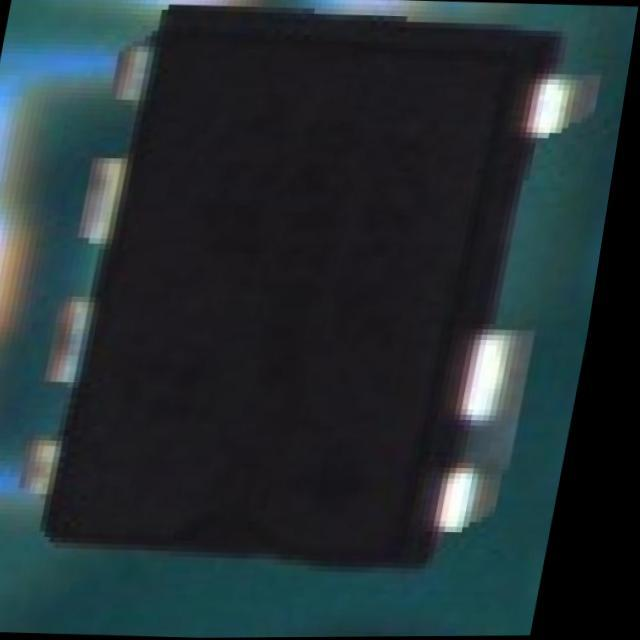IC: (31, 0, 597, 610)
